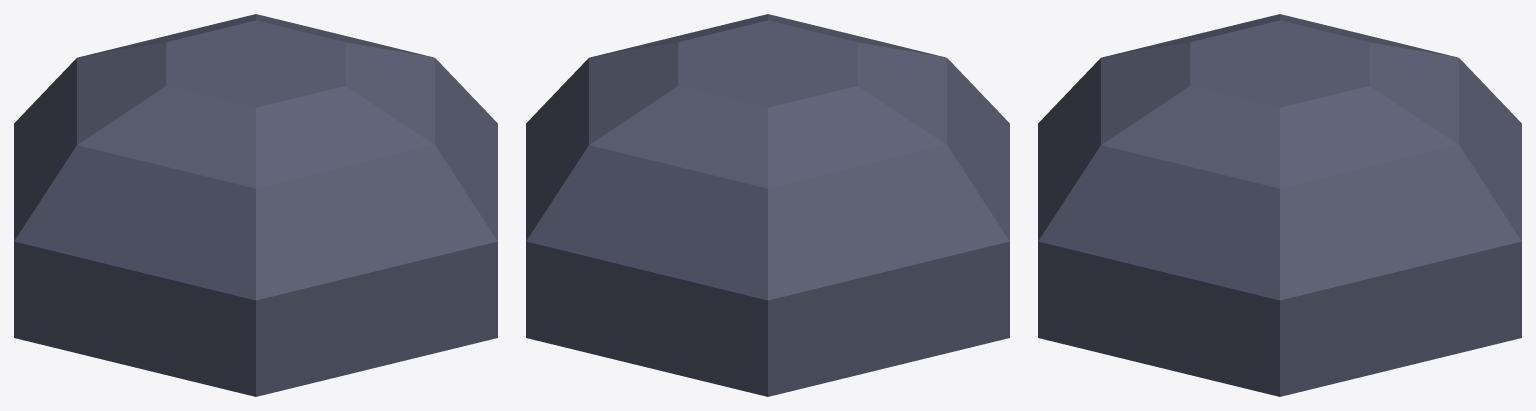
The model's file is meteor_half.glb.
3 renders of one model, left to right at view 1: azimuth 30°, elevation 25°; view 2: azimuth 150°, elevation 25°; view 3: azimuth 270°, elevation 25°, orthographic.
Parts seen in each view (by area): view 1: meteor_half; view 2: meteor_half; view 3: meteor_half.
Part boxes in pixels (x1,y1,x2,y2): meteor_half: (14,14,497,396); meteor_half: (526,14,1009,396); meteor_half: (1038,14,1521,396).
Size of the model in its own units: 0.866 by 0.3675 by 0.75.
